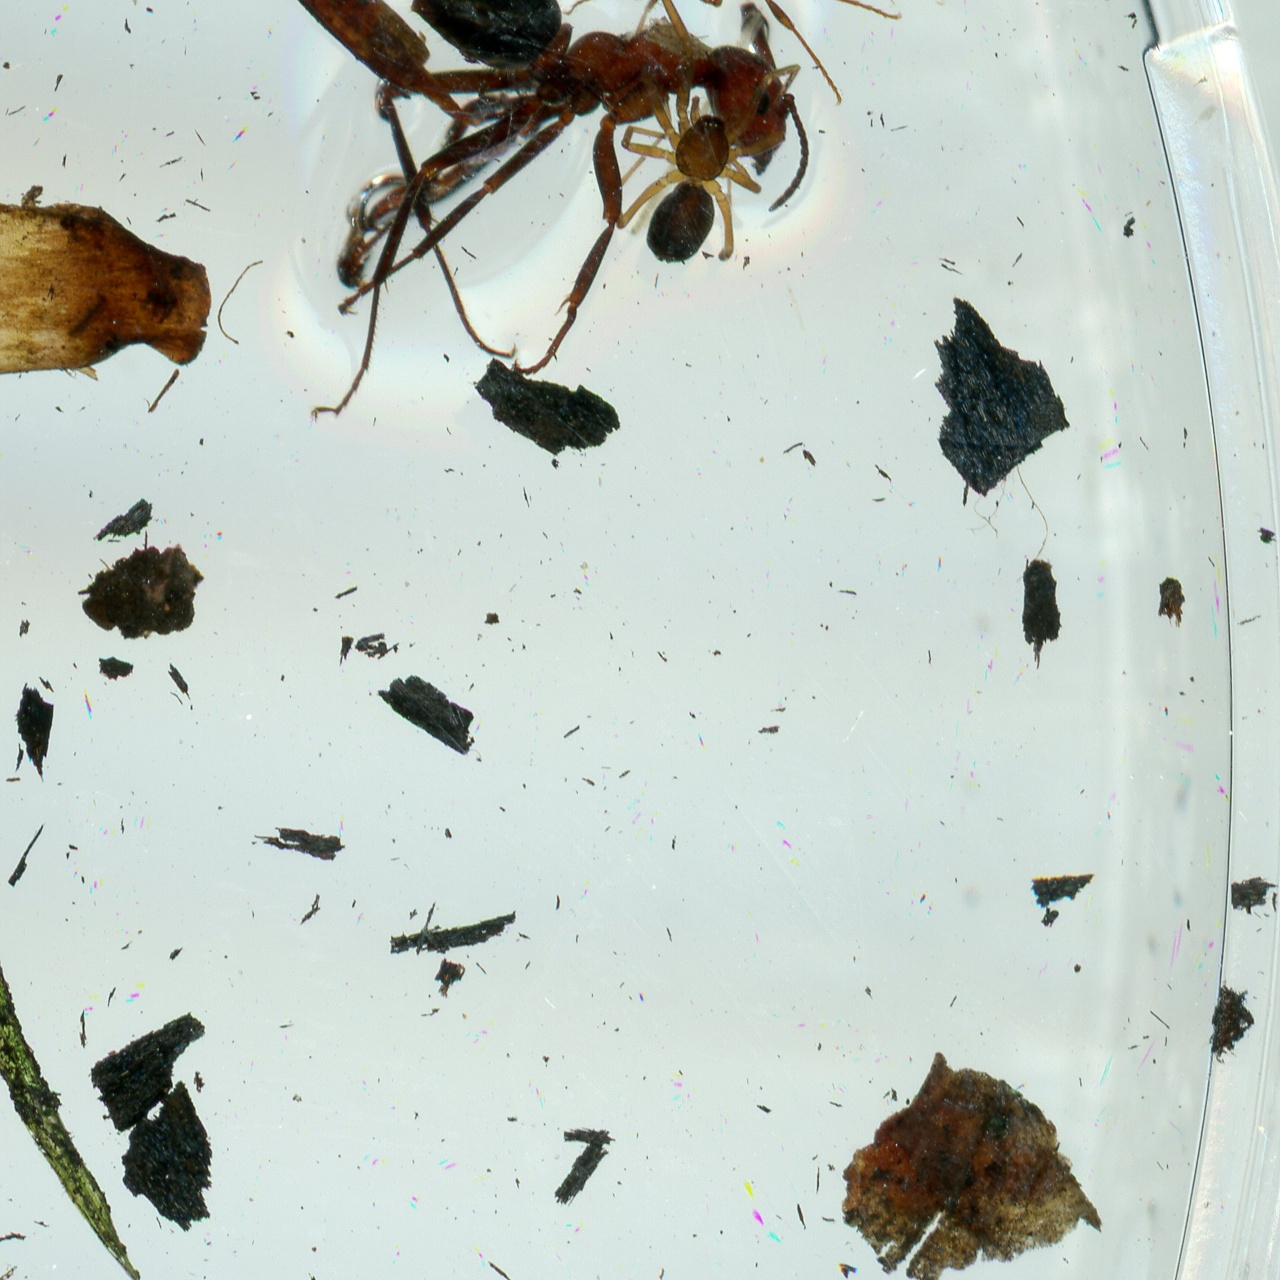arthropod: (298, 0, 814, 438), (559, 0, 915, 105), (608, 87, 765, 271)
